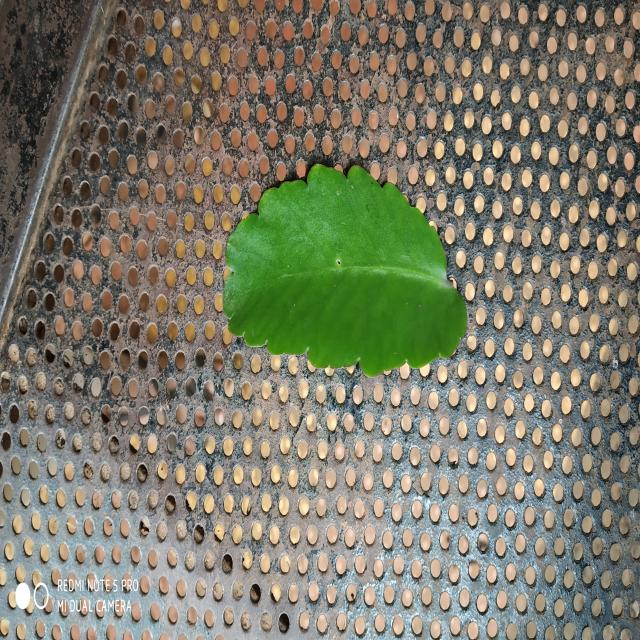spinach: (224, 164, 466, 376)
